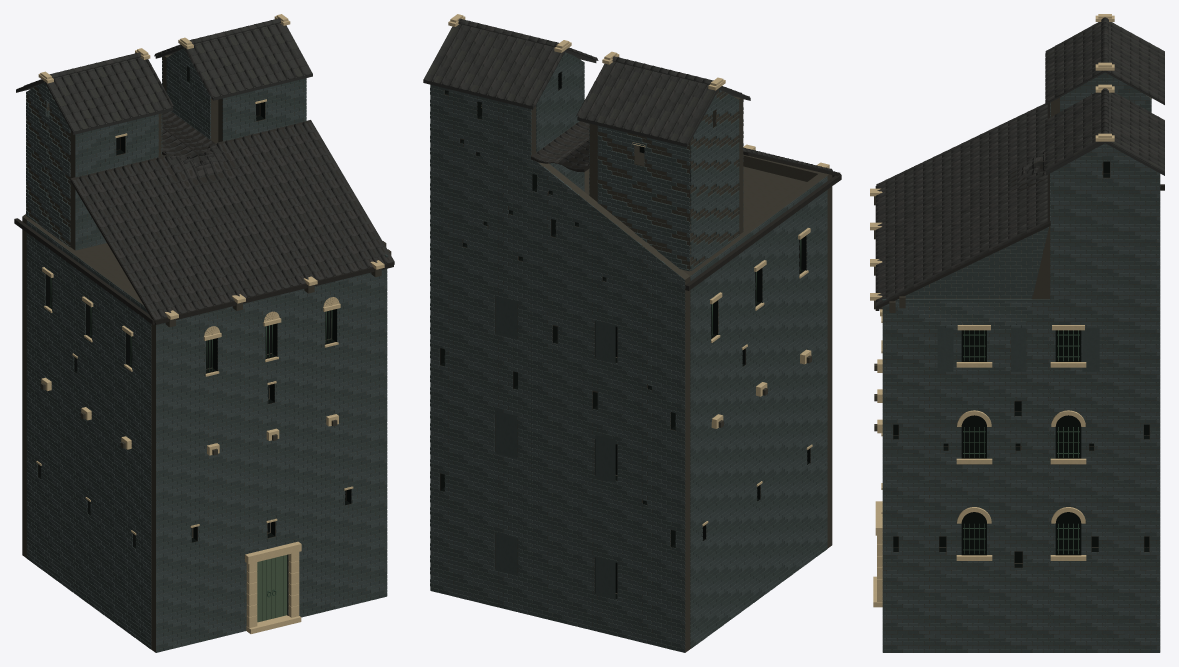
Rendered from ruilianlou.glb.
3 renders of one model, left to right at view 1: azimuth 30°, elevation 25°; view 2: azimuth 150°, elevation 25°; view 3: azimuth 270°, elevation 25°, orthographic. The views are drawn at different scales.
Visible parts, largest first — view 1: 01_Entrance_Front__Brick__Brick_Red_Clay_0, 14_Main_Roof_Board_And_Cover_Tiles__Ceramic_Roof_0__INFERRED, 01_Entrance_Front__White lime mortar and structural brick co, 13_Main_Roof_Underlay__Clay tile white model__INFERRED, 15_Tall_Tiled_Roof__Ceramic_Roof_0, 05_Front_Details__Pale stone lintels and sills, 09_Door_Left__Muted grey timber door, 05_Front_Details__Dark iron window bars and door rings; view 2: 01_Entrance_Front__Brick__Brick_Red_Clay_0, 01_Entrance_Front__White lime mortar and structural brick co, 15_Tall_Tiled_Roof__Ceramic_Roof_0, 14_Main_Roof_Board_And_Cover_Tiles__Ceramic_Roof_0__INFERRED, 13_Main_Roof_Underlay__Clay tile white model__INFERRED, 05_Front_Details__Pale stone lintels and sills; view 3: 01_Entrance_Front__Brick__Brick_Red_Clay_0, 14_Main_Roof_Board_And_Cover_Tiles__Ceramic_Roof_0__INFERRED, 01_Entrance_Front__White lime mortar and structural brick co, 15_Tall_Tiled_Roof__Ceramic_Roof_0, 05_Front_Details__Pale stone lintels and sills, 13_Main_Roof_Underlay__Clay tile white model__INFERRED, 05_Front_Details__Dark iron window bars and door rings.
Boxes of the visible parts, x1=… form: 01_Entrance_Front__Brick__Brick_Red_Clay_0: x1=23, y1=49, x2=388, y2=652; 14_Main_Roof_Board_And_Cover_Tiles__Ceramic_Roof_0__INFERRED: x1=24, y1=18, x2=394, y2=319; 01_Entrance_Front__White lime mortar and structural brick co: x1=22, y1=54, x2=391, y2=652; 13_Main_Roof_Underlay__Clay tile white model__INFERRED: x1=14, y1=111, x2=394, y2=324; 15_Tall_Tiled_Roof__Ceramic_Roof_0: x1=16, y1=23, x2=312, y2=134; 05_Front_Details__Pale stone lintels and sills: x1=36, y1=14, x2=384, y2=633; 09_Door_Left__Muted grey timber door: x1=257, y1=555, x2=287, y2=622; 05_Front_Details__Dark iron window bars and door rings: x1=50, y1=278, x2=332, y2=597; 01_Entrance_Front__Brick__Brick_Red_Clay_0: x1=430, y1=52, x2=827, y2=652; 01_Entrance_Front__White lime mortar and structural brick co: x1=431, y1=58, x2=832, y2=652; 15_Tall_Tiled_Roof__Ceramic_Roof_0: x1=423, y1=24, x2=750, y2=147; 14_Main_Roof_Board_And_Cover_Tiles__Ceramic_Roof_0__INFERRED: x1=431, y1=18, x2=839, y2=173; 13_Main_Roof_Underlay__Clay tile white model__INFERRED: x1=531, y1=121, x2=841, y2=290; 05_Front_Details__Pale stone lintels and sills: x1=448, y1=14, x2=829, y2=526; 01_Entrance_Front__Brick__Brick_Red_Clay_0: x1=882, y1=72, x2=1160, y2=652; 14_Main_Roof_Board_And_Cover_Tiles__Ceramic_Roof_0__INFERRED: x1=876, y1=17, x2=1164, y2=305; 01_Entrance_Front__White lime mortar and structural brick co: x1=874, y1=74, x2=1159, y2=652; 15_Tall_Tiled_Roof__Ceramic_Roof_0: x1=1045, y1=22, x2=1164, y2=175; 05_Front_Details__Pale stone lintels and sills: x1=870, y1=14, x2=1151, y2=607; 13_Main_Roof_Underlay__Clay tile white model__INFERRED: x1=875, y1=103, x2=1164, y2=310; 05_Front_Details__Dark iron window bars and door rings: x1=963, y1=330, x2=1079, y2=554.
Size of the model in its own units: 10.62 by 20.7 by 10.65.
Materials: 20 (19 with a texture image).
